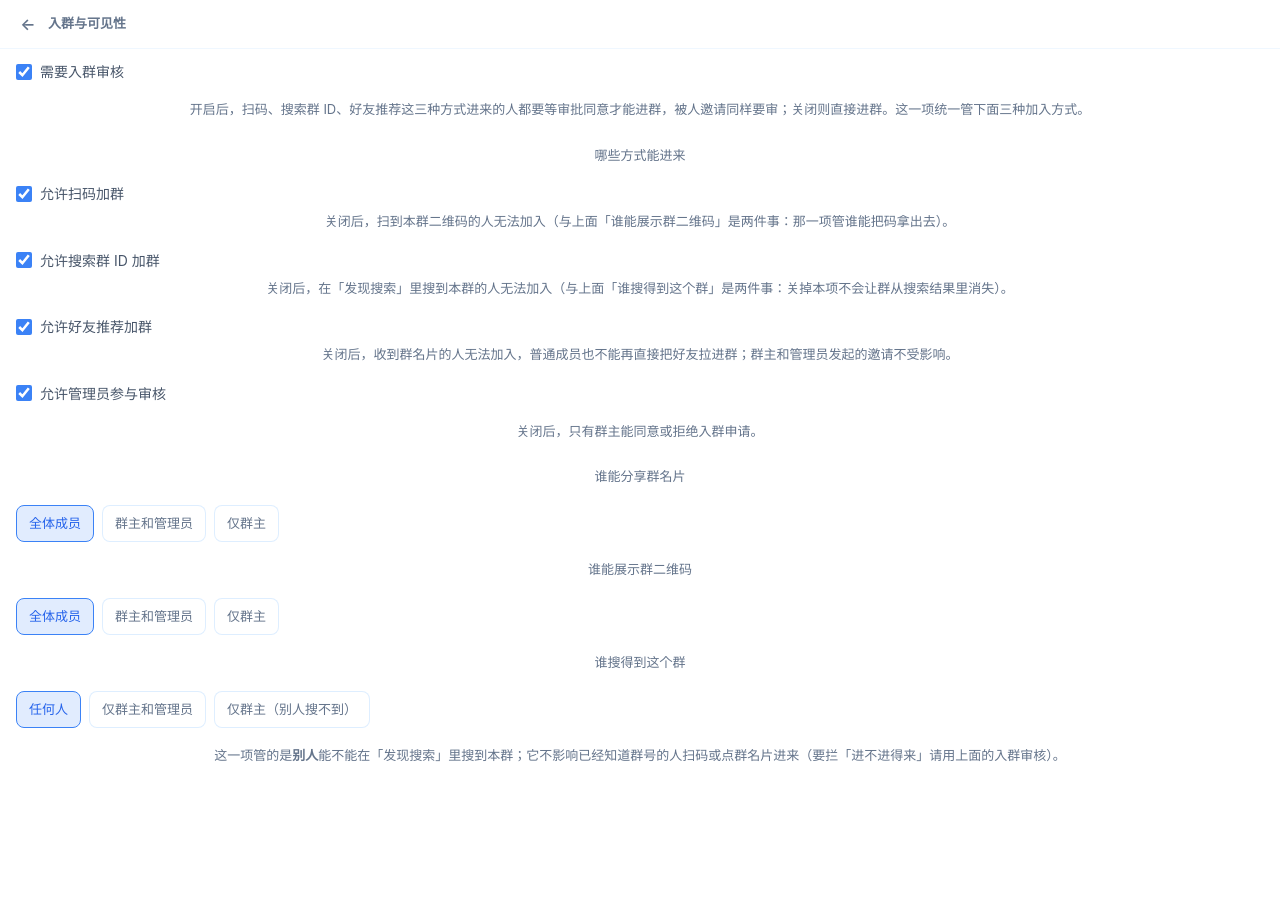
Test case: JoinPolicyForm › 错误分档（四种互不相同） › 403（不是群主） ⇒ 专属文案，且 UI 值不变
This screenshot has width=1280, height=900.
Expected: the checkbox labelled "需要入群审核" is shown, [16,64,32,80]
Click the 1st button "仅群主": (246, 523) [214,504,279,542]
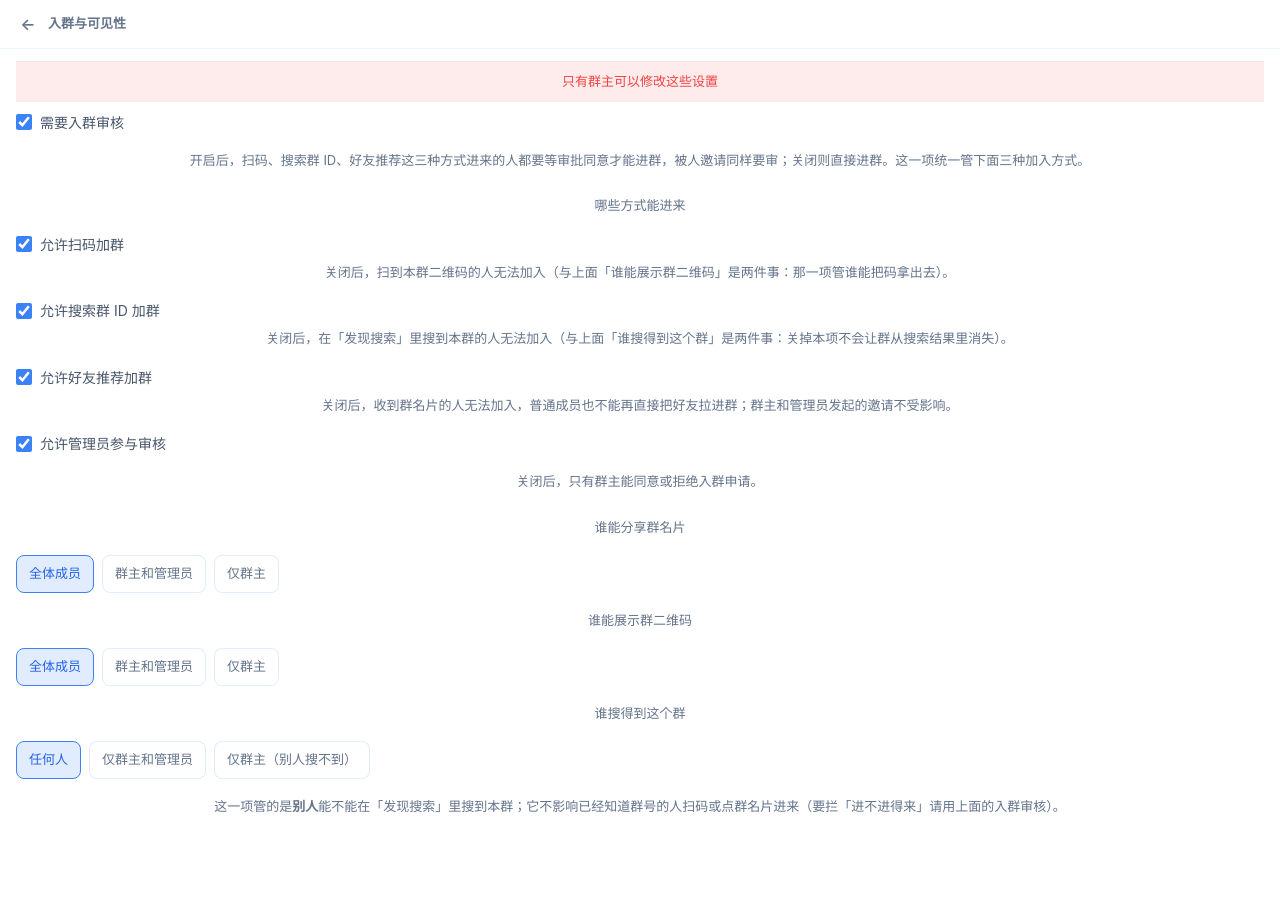
Expected: the 1st button "全体成员" is shown, [16,555,94,592]
Expected: the text "只有群主可以修改这些设置" is shown, [16,61,1264,102]
